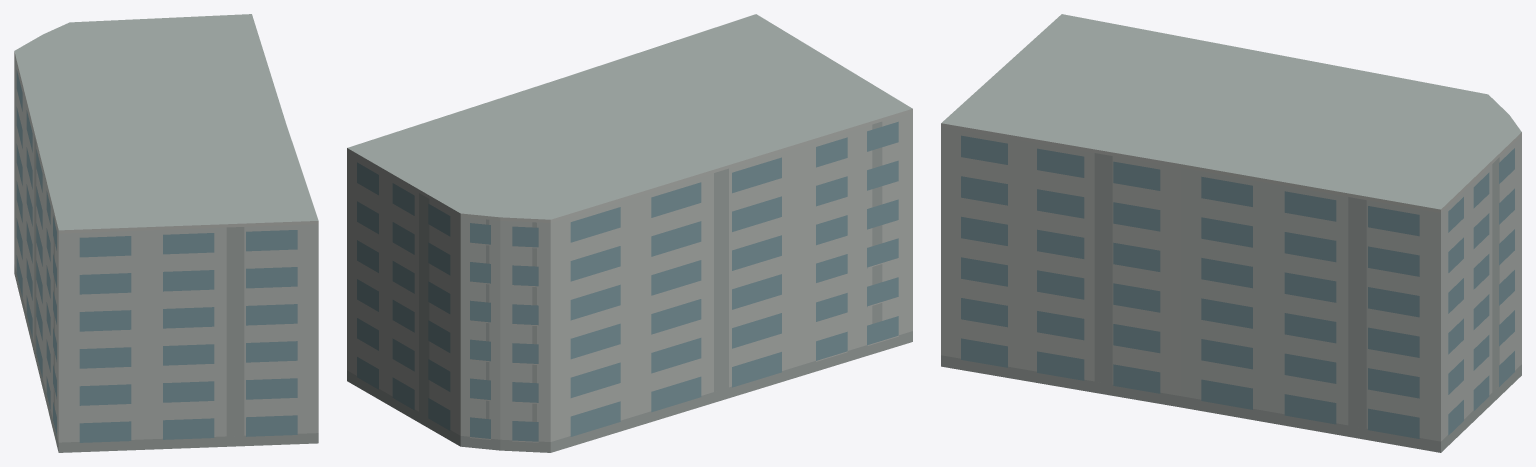
File: survey-upis-32478923.glb
3 views of the same model, side by side, from view 1: azimuth 30°, elevation 25°; view 2: azimuth 150°, elevation 25°; view 3: azimuth 270°, elevation 25° (orthographic). The views are drawn at different scales.
Visible parts, largest first — view 1: survey-upis-32478923.tmp; view 2: survey-upis-32478923.tmp; view 3: survey-upis-32478923.tmp.
Part boxes in pixels (box(x1,y1,x2,y2)): survey-upis-32478923.tmp: box(14, 14, 318, 452); survey-upis-32478923.tmp: box(347, 14, 912, 452); survey-upis-32478923.tmp: box(941, 14, 1521, 452).
Size of the model in its own units: 28.45 by 16.5 by 35.7.
